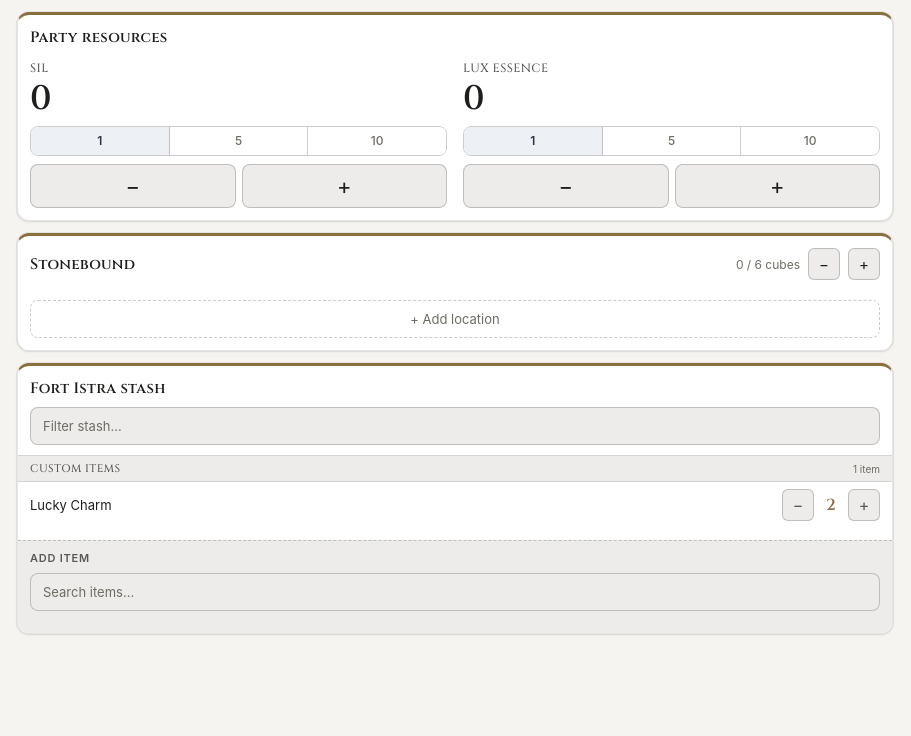
stash add search — items already held › covers custom items too, not just predefined ones
Type "lucky" into the field with class "stash-search" showing "Search items…" at (455, 592), box [30,573,880,611]
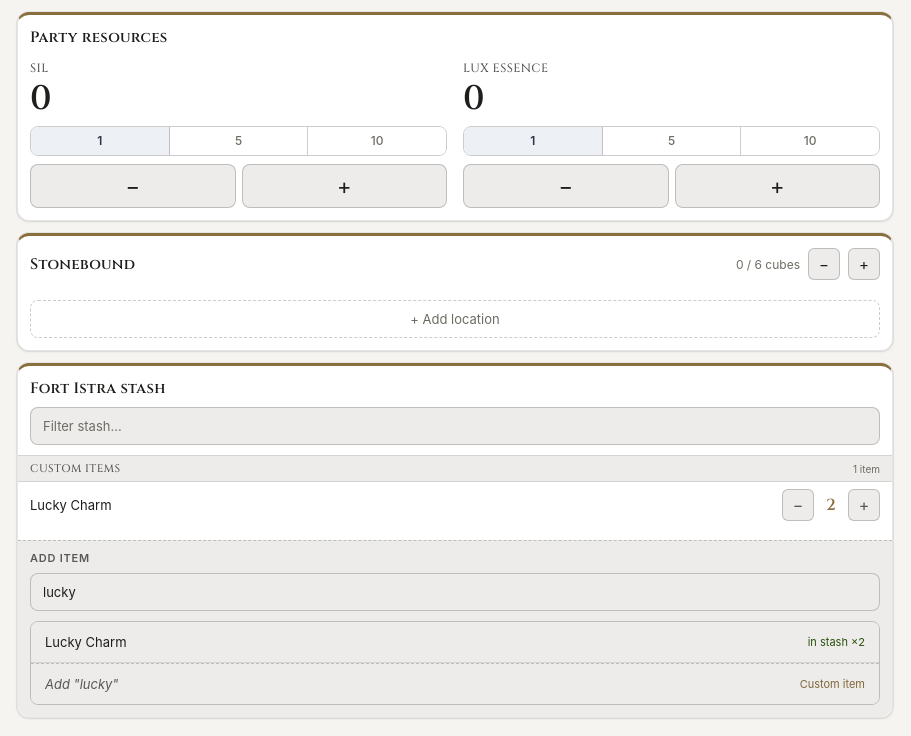
Check: the button with class "stash-add-result--held" shows "Lucky Charm", box [31,622,879,663]
